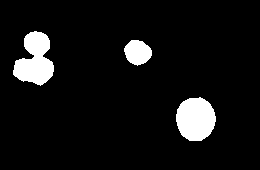cell: (13, 31, 53, 85), (176, 97, 215, 140), (124, 40, 151, 65)
